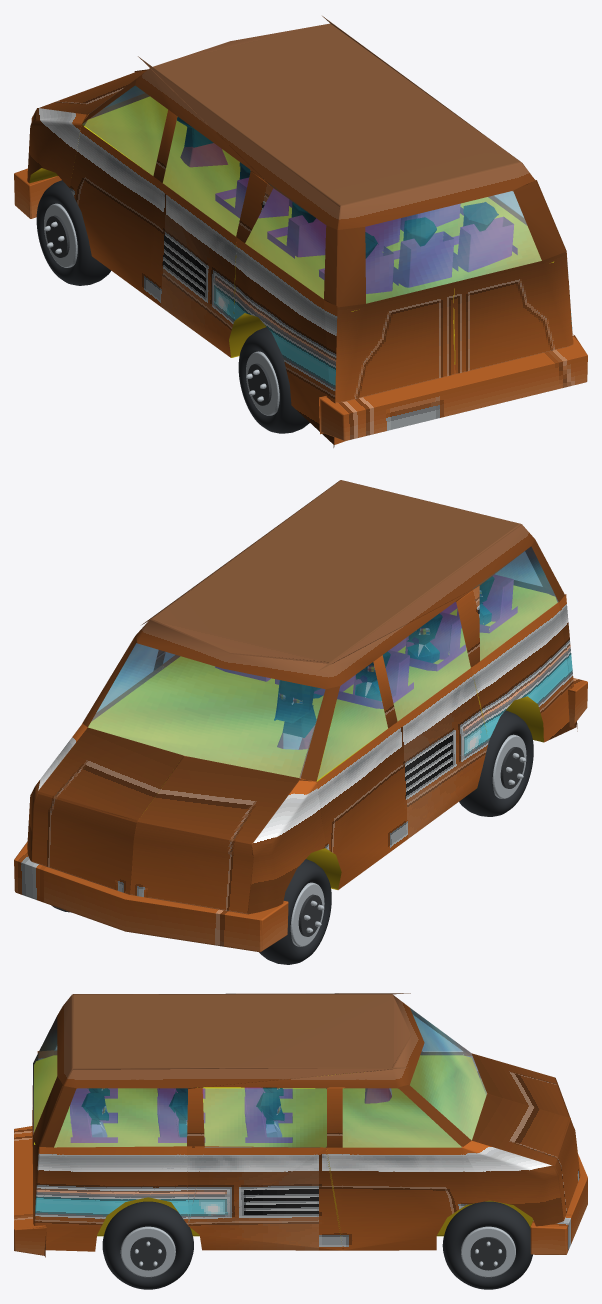
Rendered from car-cnonup.glb.
3 renders of one model, top to bottom at view 1: azimuth 30°, elevation 25°; view 2: azimuth 150°, elevation 25°; view 3: azimuth 270°, elevation 25°, orthographic. The views are drawn at different scales.
Visible parts, largest first — view 1: cNonupShape.001, cNonupShape.002, cNonupShape, babiesShape, Rounded tire.074, Rounded tire.073, driverShape, Alloy rim.074, Alloy rim.073, Rim recess.146, Rim recess.148; view 2: cNonupShape.001, cNonupShape.002, cNonupShape, babiesShape, Rounded tire.073, Rounded tire.074, driverShape, Alloy rim.073, Alloy rim.074, Rim recess.146, Rim recess.148; view 3: cNonupShape.001, cNonupShape.002, cNonupShape, babiesShape, Rounded tire.072, Rounded tire.075, Alloy rim.072, Alloy rim.075, Rim recess.145, Rim recess.151.
Boxes of the visible parts, bbox=[...] form: cNonupShape.001: bbox=[14, 16, 587, 447]; cNonupShape.002: bbox=[82, 85, 541, 303]; cNonupShape: bbox=[29, 96, 553, 364]; babiesShape: bbox=[215, 162, 517, 293]; Rounded tire.074: bbox=[36, 180, 111, 285]; Rounded tire.073: bbox=[238, 327, 309, 433]; driverShape: bbox=[177, 117, 227, 166]; Alloy rim.074: bbox=[44, 203, 77, 267]; Alloy rim.073: bbox=[246, 351, 279, 415]; Rim recess.146: bbox=[248, 363, 271, 405]; Rim recess.148: bbox=[46, 215, 69, 257]; cNonupShape.001: bbox=[14, 480, 587, 952]; cNonupShape.002: bbox=[88, 546, 558, 779]; cNonupShape: bbox=[88, 585, 557, 889]; babiesShape: bbox=[215, 574, 517, 708]; Rounded tire.073: bbox=[459, 710, 533, 816]; Rounded tire.074: bbox=[259, 859, 331, 964]; driverShape: bbox=[274, 680, 320, 749]; Alloy rim.073: bbox=[492, 734, 526, 798]; Alloy rim.074: bbox=[290, 882, 324, 946]; Rim recess.146: bbox=[500, 747, 524, 788]; Rim recess.148: bbox=[298, 894, 322, 936]; cNonupShape.001: bbox=[14, 993, 587, 1257]; cNonupShape.002: bbox=[33, 1008, 486, 1147]; cNonupShape: bbox=[34, 1055, 533, 1238]; babiesShape: bbox=[70, 1087, 292, 1142]; Rounded tire.072: bbox=[102, 1201, 193, 1289]; Rounded tire.075: bbox=[442, 1201, 532, 1289]; Alloy rim.072: bbox=[120, 1226, 175, 1277]; Alloy rim.075: bbox=[461, 1226, 515, 1277]; Rim recess.145: bbox=[130, 1237, 166, 1270]; Rim recess.151: bbox=[470, 1237, 506, 1270].
Bounding box in the file's own units: 2.37 × 2.15 × 5.25.
Materials: 6 (3 with a texture image).
